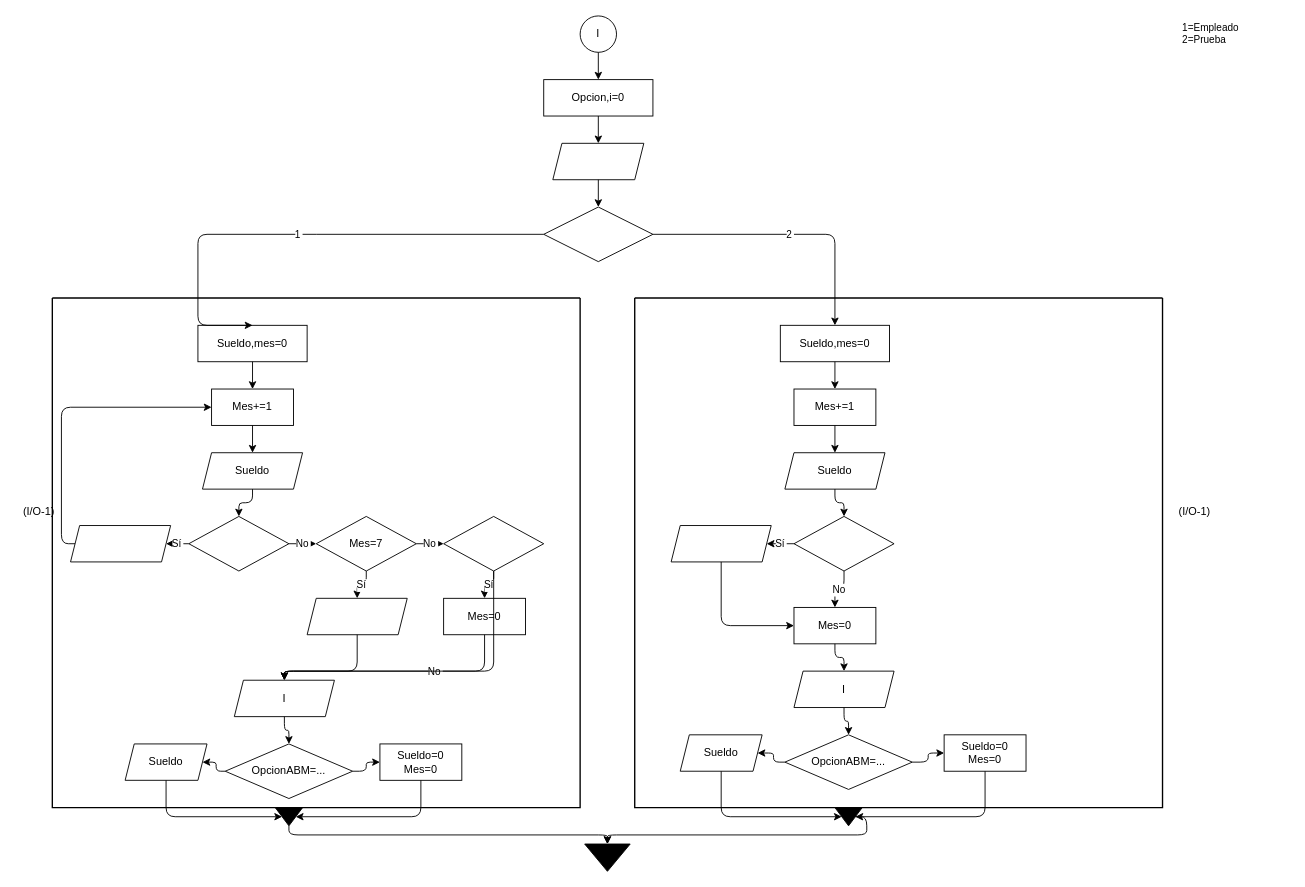
The diagram is 1305 pixels wide and 887 high, and some of its shapes have lost their labels. Each missing label, with the centre of its shape:
"Reunion": the point at 720,543
"Vacaciones": the point at 120,543
Mes=12: the point at 238,543
Mes=6: the point at 843,543
Mes>12: the point at 493,543
Opcion: the point at 598,161
Opcion=...: the point at 598,234
Vacaciones: the point at 356,616
